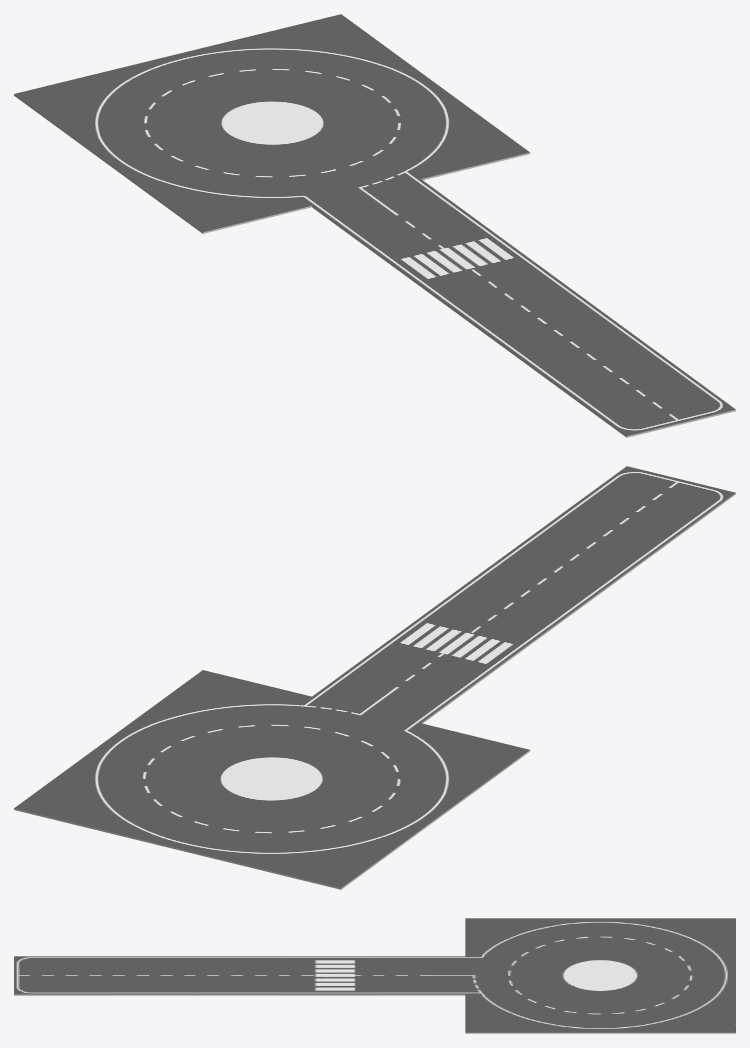
Rendered from city.dae.
3 views of the same model, one above another, from view 1: azimuth 30°, elevation 25°; view 2: azimuth 150°, elevation 25°; view 3: azimuth 270°, elevation 25° (orthographic). The views are drawn at different scales.
Parts seen in each view (by area): view 1: a0e02169-2aeb-4bef-a770-b193ee8cf62d, c211de43-decd-42e9-ae99-9764e3c7552a, afcd4e5e-dc9b-4ffe-bedb-c14cd86b9d86, aa2fc697-9ac3-4fb0-9f72-3aa8f007c167, aa6345e3-7763-4449-8006-ce5b6f0c5bdf, a8e35057-99d4-413e-9e5e-c7d8a1fba4d4, aacce3ef-7dbf-4cb7-b6e7-9dd0a9a4a031, a458513e-54d4-4b60-8342-9278cae69a01, a876b765-a194-49b0-92c3-98718f425f60, afafdebd-ea72-4415-8239-8852f5c6431f, aeb067dc-a8c6-4eb3-8370-db51059f4d37, afb085fb-838a-4d10-93da-44c7250a8cba (+2 smaller); view 2: aa2fc697-9ac3-4fb0-9f72-3aa8f007c167, aa6345e3-7763-4449-8006-ce5b6f0c5bdf, afcd4e5e-dc9b-4ffe-bedb-c14cd86b9d86, aacce3ef-7dbf-4cb7-b6e7-9dd0a9a4a031, a458513e-54d4-4b60-8342-9278cae69a01, c211de43-decd-42e9-ae99-9764e3c7552a, c532de31-7062-4dbc-b35f-ba6acfb0ecbd, a876b765-a194-49b0-92c3-98718f425f60, a0e02169-2aeb-4bef-a770-b193ee8cf62d, afafdebd-ea72-4415-8239-8852f5c6431f, aeb067dc-a8c6-4eb3-8370-db51059f4d37, a8e35057-99d4-413e-9e5e-c7d8a1fba4d4 (+2 smaller); view 3: a876b765-a194-49b0-92c3-98718f425f60, aa6345e3-7763-4449-8006-ce5b6f0c5bdf, a8e35057-99d4-413e-9e5e-c7d8a1fba4d4, aacce3ef-7dbf-4cb7-b6e7-9dd0a9a4a031, a458513e-54d4-4b60-8342-9278cae69a01, c532de31-7062-4dbc-b35f-ba6acfb0ecbd, afcd4e5e-dc9b-4ffe-bedb-c14cd86b9d86, a0e02169-2aeb-4bef-a770-b193ee8cf62d, afafdebd-ea72-4415-8239-8852f5c6431f, aa2fc697-9ac3-4fb0-9f72-3aa8f007c167, aeb067dc-a8c6-4eb3-8370-db51059f4d37, afb085fb-838a-4d10-93da-44c7250a8cba (+2 smaller).
Boxes of the visible parts, x1=… form: a0e02169-2aeb-4bef-a770-b193ee8cf62d: x1=438, y1=271, x2=609, y2=343; c211de43-decd-42e9-ae99-9764e3c7552a: x1=140, y1=159, x2=311, y2=231; afcd4e5e-dc9b-4ffe-bedb-c14cd86b9d86: x1=564, y1=363, x2=735, y2=435; aa2fc697-9ac3-4fb0-9f72-3aa8f007c167: x1=312, y1=179, x2=483, y2=251; aa6345e3-7763-4449-8006-ce5b6f0c5bdf: x1=358, y1=106, x2=529, y2=178; a8e35057-99d4-413e-9e5e-c7d8a1fba4d4: x1=295, y1=60, x2=466, y2=132; aacce3ef-7dbf-4cb7-b6e7-9dd0a9a4a031: x1=232, y1=14, x2=403, y2=86; a458513e-54d4-4b60-8342-9278cae69a01: x1=77, y1=113, x2=248, y2=185; a876b765-a194-49b0-92c3-98718f425f60: x1=501, y1=317, x2=672, y2=389; afafdebd-ea72-4415-8239-8852f5c6431f: x1=375, y1=225, x2=546, y2=297; aeb067dc-a8c6-4eb3-8370-db51059f4d37: x1=249, y1=133, x2=420, y2=205; afb085fb-838a-4d10-93da-44c7250a8cba: x1=123, y1=41, x2=294, y2=113; aa2fc697-9ac3-4fb0-9f72-3aa8f007c167: x1=312, y1=650, x2=483, y2=722; aa6345e3-7763-4449-8006-ce5b6f0c5bdf: x1=140, y1=670, x2=311, y2=742; afcd4e5e-dc9b-4ffe-bedb-c14cd86b9d86: x1=564, y1=466, x2=735, y2=538; aacce3ef-7dbf-4cb7-b6e7-9dd0a9a4a031: x1=14, y1=762, x2=185, y2=834; a458513e-54d4-4b60-8342-9278cae69a01: x1=295, y1=769, x2=466, y2=841; c211de43-decd-42e9-ae99-9764e3c7552a: x1=358, y1=723, x2=529, y2=795; c532de31-7062-4dbc-b35f-ba6acfb0ecbd: x1=186, y1=743, x2=357, y2=815; a876b765-a194-49b0-92c3-98718f425f60: x1=501, y1=512, x2=672, y2=584; a0e02169-2aeb-4bef-a770-b193ee8cf62d: x1=438, y1=558, x2=609, y2=630; afafdebd-ea72-4415-8239-8852f5c6431f: x1=375, y1=604, x2=546, y2=676; aeb067dc-a8c6-4eb3-8370-db51059f4d37: x1=249, y1=696, x2=420, y2=769; a8e35057-99d4-413e-9e5e-c7d8a1fba4d4: x1=77, y1=716, x2=248, y2=788; a876b765-a194-49b0-92c3-98718f425f60: x1=104, y1=956, x2=194, y2=994; aa6345e3-7763-4449-8006-ce5b6f0c5bdf: x1=465, y1=994, x2=555, y2=1032; a8e35057-99d4-413e-9e5e-c7d8a1fba4d4: x1=555, y1=994, x2=645, y2=1032; aacce3ef-7dbf-4cb7-b6e7-9dd0a9a4a031: x1=645, y1=994, x2=735, y2=1032; a458513e-54d4-4b60-8342-9278cae69a01: x1=555, y1=918, x2=645, y2=956; c532de31-7062-4dbc-b35f-ba6acfb0ecbd: x1=555, y1=956, x2=645, y2=994; afcd4e5e-dc9b-4ffe-bedb-c14cd86b9d86: x1=14, y1=956, x2=104, y2=994; a0e02169-2aeb-4bef-a770-b193ee8cf62d: x1=194, y1=956, x2=284, y2=994; afafdebd-ea72-4415-8239-8852f5c6431f: x1=284, y1=956, x2=374, y2=994; aa2fc697-9ac3-4fb0-9f72-3aa8f007c167: x1=375, y1=956, x2=465, y2=994; aeb067dc-a8c6-4eb3-8370-db51059f4d37: x1=465, y1=956, x2=555, y2=994; afb085fb-838a-4d10-93da-44c7250a8cba: x1=645, y1=956, x2=735, y2=994.
Size of the model in its own units: 1.62 by 4.32 by 0.008.
Materials: 15 (14 with a texture image).
